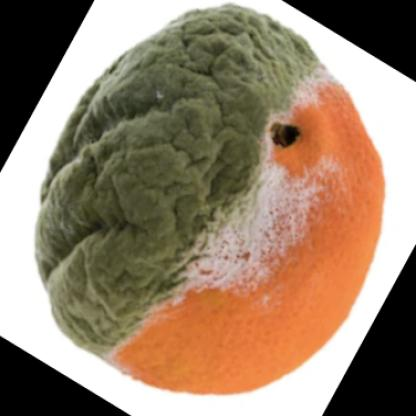rotten: (33, 7, 386, 397)
